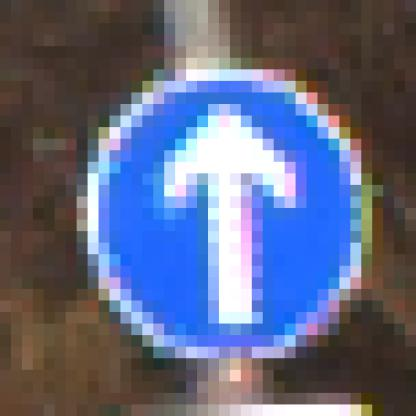AheadOnly: (67, 59, 362, 348)
